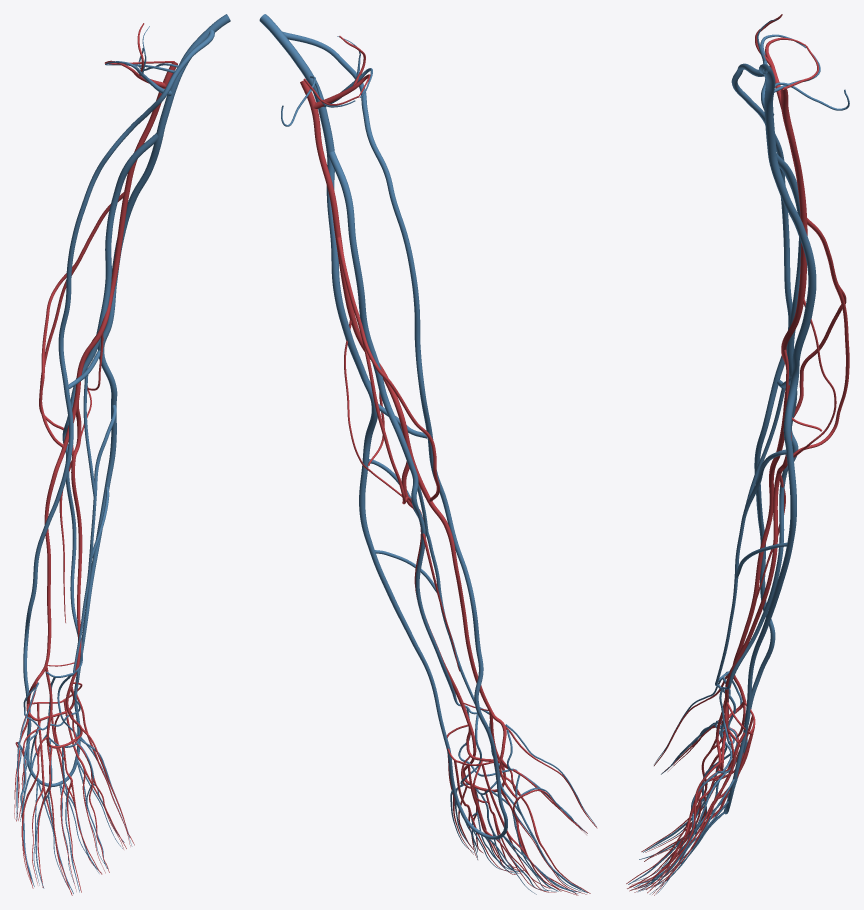
Rendered from detail-circulatory-right-upper-limb.glb.
3 views of the same model, side by side, from view 1: azimuth 30°, elevation 25°; view 2: azimuth 150°, elevation 25°; view 3: azimuth 270°, elevation 25° (orthographic). The views are drawn at different scales.
Parts seen in each view (by area): view 1: za-152be24493b76052, za-f4fa23541171468d, za-2cd3d8415ef1cbe8, za-d5bf97d986cbbddc, za-ac3433904ed28f08, za-189de546d9f8afa2, za-d6dc6b13627affb3, za-7eda365e6f58d7bf, za-5ce98ad28a84c39f, za-7065172f4d733574, za-321b1f64ea125408, za-4036b65e72b76e5a (+6 smaller); view 2: za-152be24493b76052, za-f4fa23541171468d, za-189de546d9f8afa2, za-d5bf97d986cbbddc, za-5ce98ad28a84c39f, za-ac3433904ed28f08, za-2cd3d8415ef1cbe8, za-4036b65e72b76e5a, za-d6dc6b13627affb3, za-ab757fed9eccb5b3, za-7065172f4d733574, za-7eda365e6f58d7bf (+3 smaller); view 3: za-f4fa23541171468d, za-152be24493b76052, za-d5bf97d986cbbddc, za-2cd3d8415ef1cbe8, za-ac3433904ed28f08, za-7eda365e6f58d7bf, za-5ce98ad28a84c39f, za-321b1f64ea125408, za-ab757fed9eccb5b3, za-189de546d9f8afa2, za-d6dc6b13627affb3, za-4036b65e72b76e5a (+5 smaller).
Part boxes in pixels (x1=…): za-152be24493b76052: x1=23, y1=30, x2=214, y2=721; za-f4fa23541171468d: x1=74, y1=135, x2=163, y2=693; za-2cd3d8415ef1cbe8: x1=16, y1=681, x2=134, y2=895; za-d5bf97d986cbbddc: x1=74, y1=62, x2=177, y2=397; za-ac3433904ed28f08: x1=20, y1=727, x2=129, y2=893; za-189de546d9f8afa2: x1=70, y1=133, x2=158, y2=409; za-d6dc6b13627affb3: x1=15, y1=682, x2=132, y2=888; za-7eda365e6f58d7bf: x1=46, y1=405, x2=116, y2=677; za-5ce98ad28a84c39f: x1=27, y1=397, x2=78, y2=704; za-7065172f4d733574: x1=14, y1=742, x2=130, y2=893; za-321b1f64ea125408: x1=70, y1=397, x2=82, y2=683; za-4036b65e72b76e5a: x1=156, y1=14, x2=230, y2=135; za-152be24493b76052: x1=282, y1=31, x2=500, y2=780; za-f4fa23541171468d: x1=326, y1=152, x2=449, y2=748; za-189de546d9f8afa2: x1=328, y1=151, x2=416, y2=473; za-d5bf97d986cbbddc: x1=300, y1=80, x2=411, y2=450; za-5ce98ad28a84c39f: x1=409, y1=450, x2=506, y2=760; za-ac3433904ed28f08: x1=454, y1=768, x2=587, y2=892; za-2cd3d8415ef1cbe8: x1=458, y1=726, x2=597, y2=894; za-4036b65e72b76e5a: x1=259, y1=14, x2=334, y2=152; za-d6dc6b13627affb3: x1=450, y1=724, x2=596, y2=894; za-ab757fed9eccb5b3: x1=411, y1=471, x2=476, y2=714; za-7065172f4d733574: x1=453, y1=789, x2=586, y2=895; za-7eda365e6f58d7bf: x1=368, y1=459, x2=489, y2=714; za-f4fa23541171468d: x1=743, y1=154, x2=816, y2=732; za-152be24493b76052: x1=731, y1=63, x2=792, y2=724; za-d5bf97d986cbbddc: x1=780, y1=88, x2=807, y2=408; za-2cd3d8415ef1cbe8: x1=626, y1=674, x2=728, y2=893; za-ac3433904ed28f08: x1=628, y1=720, x2=730, y2=891; za-7eda365e6f58d7bf: x1=715, y1=449, x2=787, y2=688; za-5ce98ad28a84c39f: x1=730, y1=408, x2=784, y2=702; za-321b1f64ea125408: x1=724, y1=408, x2=791, y2=702; za-ab757fed9eccb5b3: x1=719, y1=427, x2=798, y2=690; za-189de546d9f8afa2: x1=777, y1=154, x2=800, y2=426; za-d6dc6b13627affb3: x1=629, y1=671, x2=737, y2=894; za-4036b65e72b76e5a: x1=759, y1=64, x2=776, y2=156.
Size of the model in its own units: 0.2401 by 0.7003 by 0.1493.
